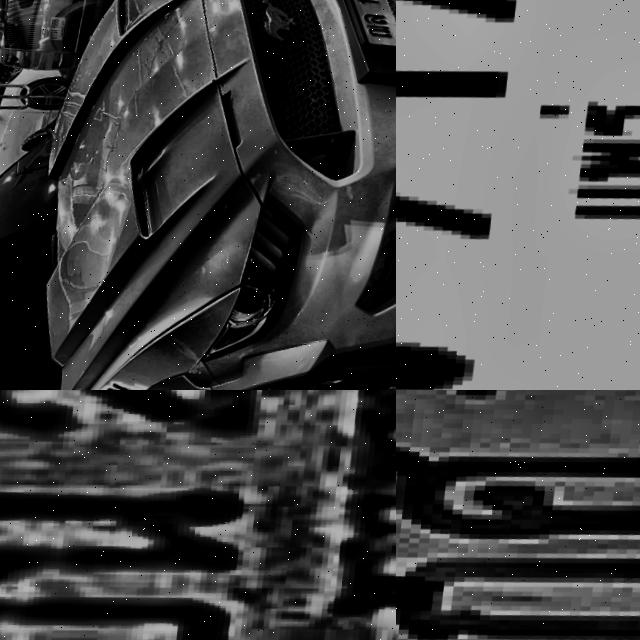license-plate: (0, 390, 396, 640), (396, 0, 640, 390), (396, 390, 640, 640), (319, 0, 396, 73)
